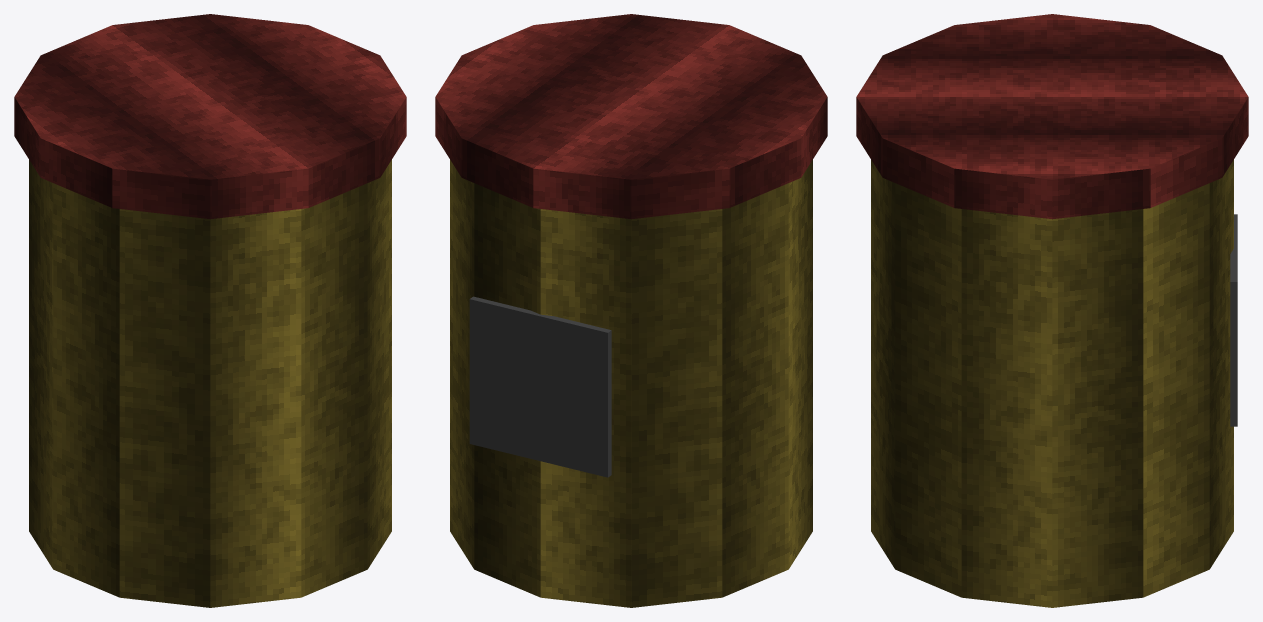
Rendered from biohazard_bin.glb.
3 renders of one model, left to right at view 1: azimuth 30°, elevation 25°; view 2: azimuth 150°, elevation 25°; view 3: azimuth 270°, elevation 25°, orthographic.
Parts seen in each view (by area): view 1: biohazard_bin; view 2: biohazard_bin; view 3: biohazard_bin.
Boxes of the visible parts, x1=… form: biohazard_bin: x1=14, y1=14, x2=406, y2=607; biohazard_bin: x1=435, y1=14, x2=827, y2=607; biohazard_bin: x1=856, y1=14, x2=1248, y2=607.
Bounding box in the file's own units: 0.54 × 0.66 × 0.54.
3 materials, 2 textured.
